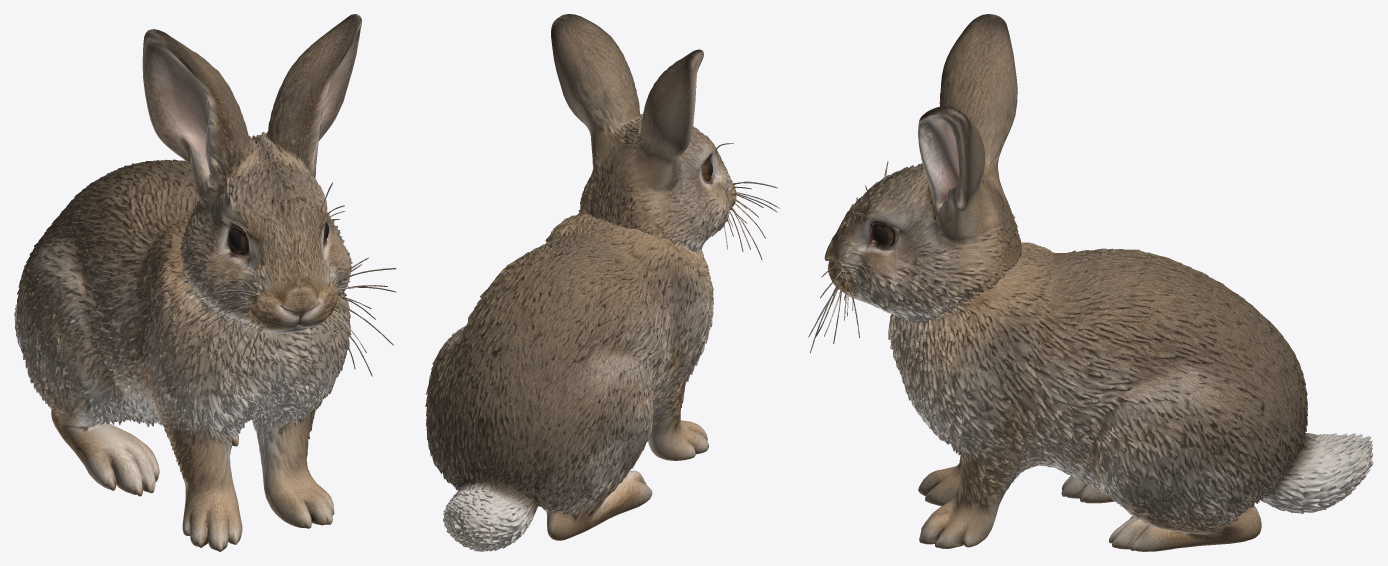
File: rabbit.glb
The picture shows the model from 3 angles, left to right: view 1: azimuth 30°, elevation 25°; view 2: azimuth 150°, elevation 25°; view 3: azimuth 270°, elevation 25°; orthographic projection. The views are drawn at different scales.
Size of the model in its own units: 0.0247 by 0.05 by 0.0549.
Materials: 1 (1 with a texture image).
